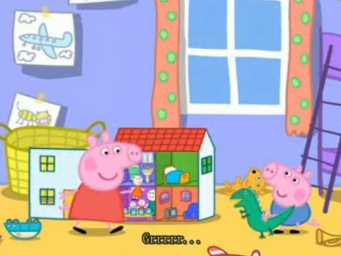Peppa: (59, 131, 144, 236)
